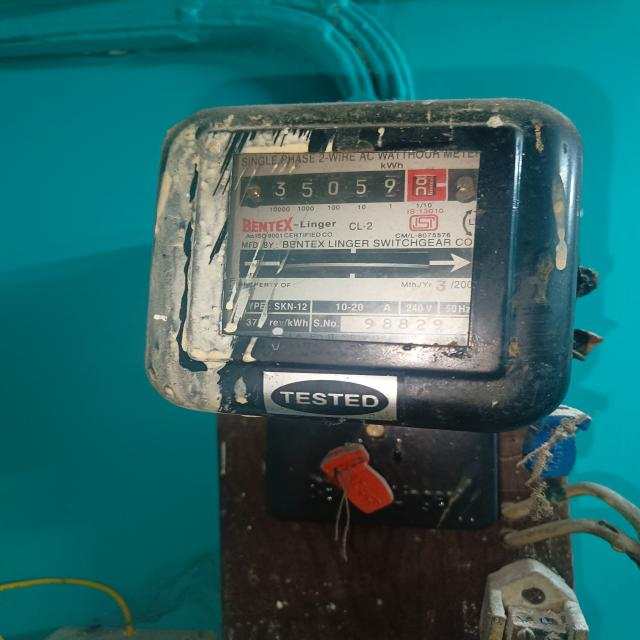display: (234, 171, 464, 210)
